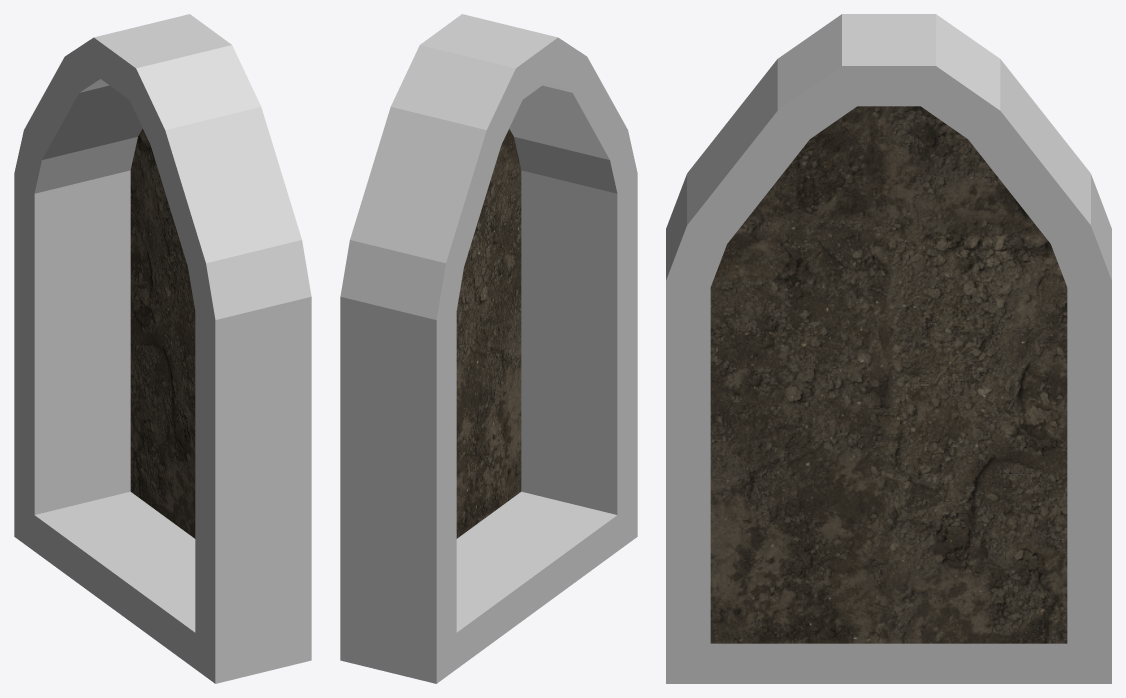
The model's file is window.fbx.
3 views of the same model, side by side, from view 1: azimuth 30°, elevation 25°; view 2: azimuth 150°, elevation 25°; view 3: azimuth 270°, elevation 25° (orthographic). The views are drawn at different scales.
Visible parts, largest first — view 1: Cube; view 2: Cube; view 3: Cube.
Part boxes in pixels (x1,y1,x2,y2): Cube: (14, 14, 311, 683); Cube: (340, 14, 637, 683); Cube: (666, 14, 1111, 683).
Size of the model in its own units: 55.18 by 306 by 200.
